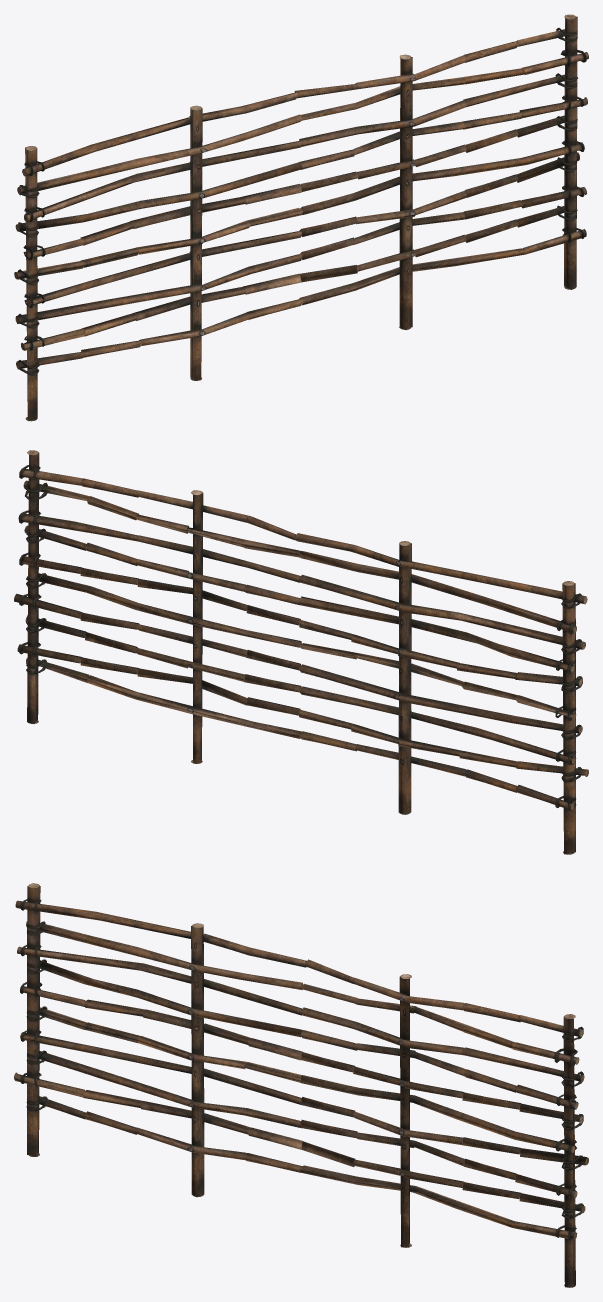
File: valla.glb
3 renders of one model, top to bottom at view 1: azimuth 30°, elevation 25°; view 2: azimuth 150°, elevation 25°; view 3: azimuth 330°, elevation 25°, orthographic.
Parts seen in each view (by area): view 1: Null__0; view 2: Null__0; view 3: Null__0.
Boxes of the visible parts, x1=… form: Null__0: x1=14, y1=14, x2=588, y2=421; Null__0: x1=14, y1=450, x2=588, y2=854; Null__0: x1=14, y1=883, x2=588, y2=1287.
Bounding box in the file's own units: 3.28 × 1.5 × 0.1534.
Materials: 1 (1 with a texture image).
